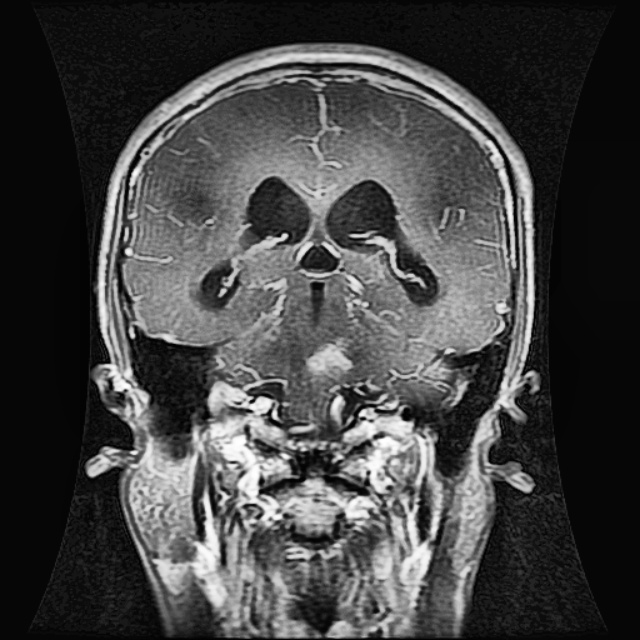Glioma: (305, 334, 357, 384)
